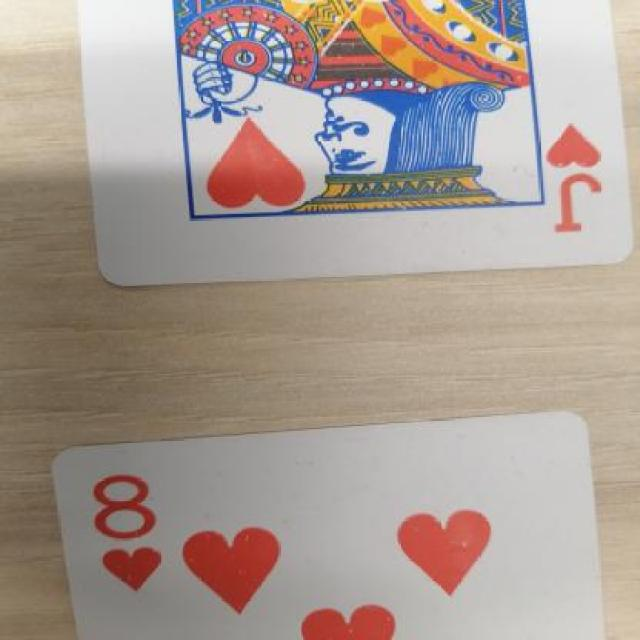8H: (86, 469, 185, 598)
JH: (546, 116, 626, 244)
